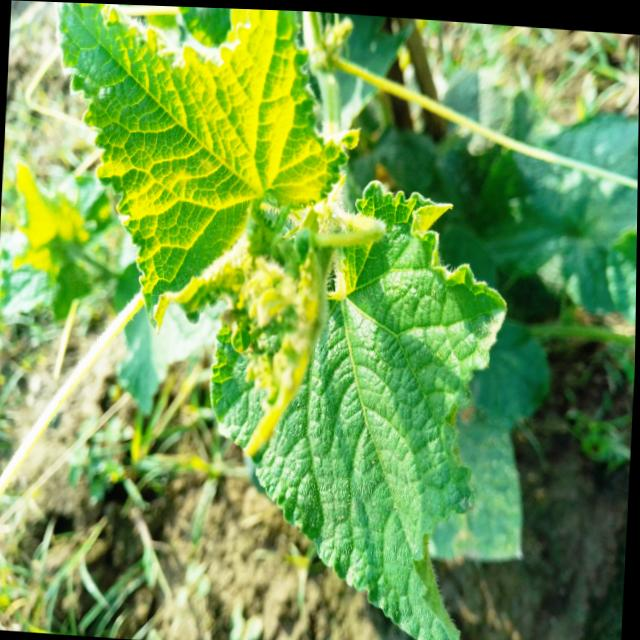Fresh-Leaf: (209, 182, 507, 640), (54, 2, 362, 341)
